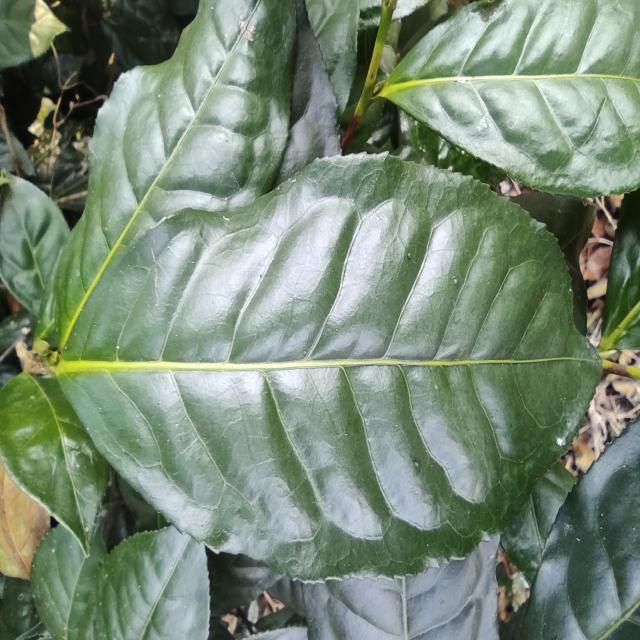Category D(7+ days, Not for Tea): (47, 146, 609, 591)
